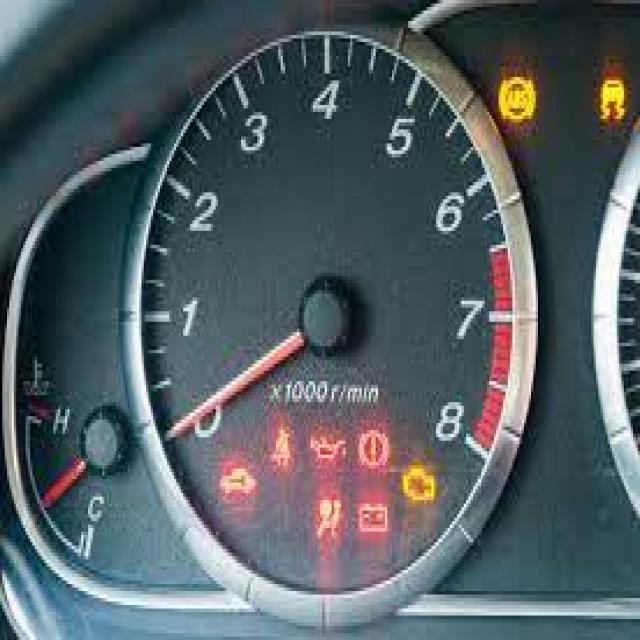ABS: (494, 60, 542, 126)
TractionControl: (594, 68, 634, 128)
